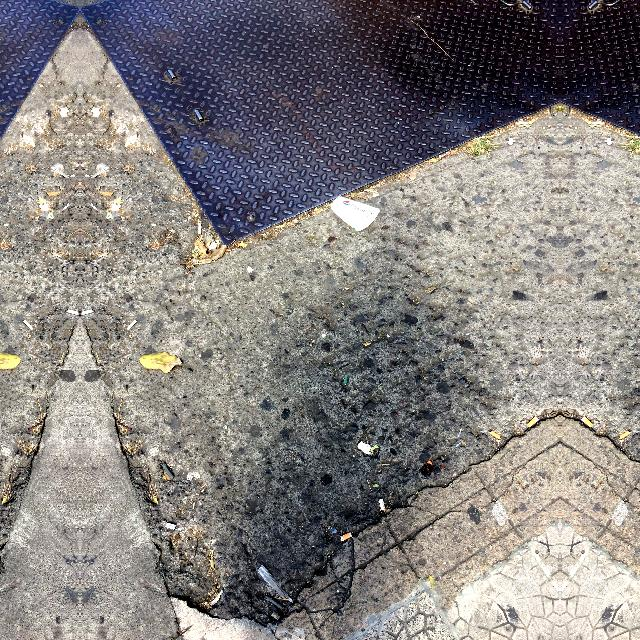Paper: (329, 194, 381, 232)
Plastic: (256, 563, 294, 603)
